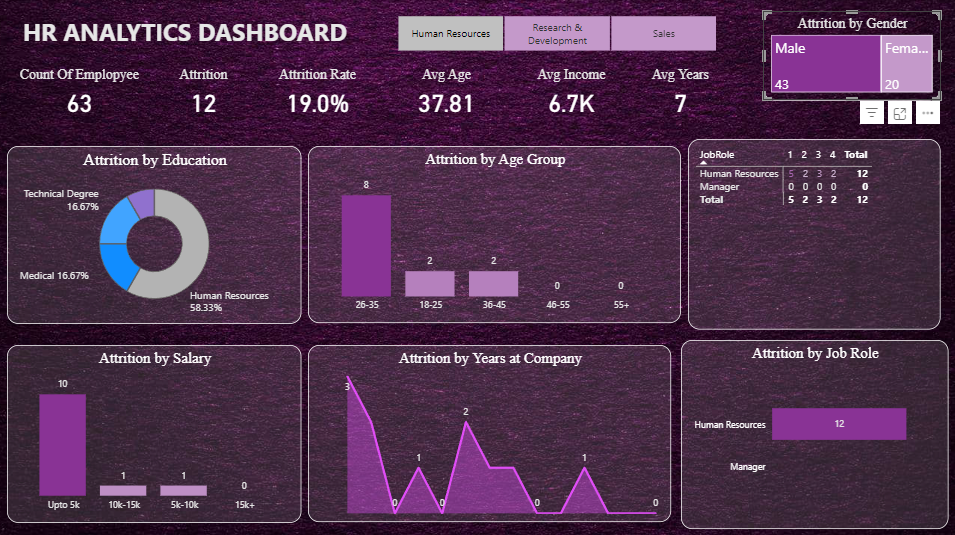

The page's visual inventory and layout, read from the dashboard file:
{"tool":"powerbi","page":{"name":"Page 1","canvas":[1280,720],"ordinal":0},"visuals":[{"type":"card","title":"Count Of Emplopyee","fields":{"Values":["CountNonNull(HR_Analytics.EmpID)"]},"box":[10.6,73.9,193.7,103.9],"z":0},{"type":"card","title":"Attrition","fields":{"Values":["CountNonNull(HR_Analytics.AttritionCount)"]},"box":[176.1,73.9,193.7,103.9],"z":1000},{"type":"card","title":"Avg Age","fields":{"Values":["Avg(HR_Analytics.Age)"]},"box":[501.8,73.9,193.7,103.9],"z":2000},{"type":"card","title":"Attrition Rate","fields":{"Values":["HR_Analytics.AttritionRate"]},"box":[329.2,73.9,193.7,103.9],"z":3000},{"type":"card","title":"Avg Income","fields":{"Values":["Avg(HR_Analytics.MonthlyIncome)"]},"box":[669.1,73.9,193.7,103.9],"z":4000},{"type":"card","title":"Avg Years","fields":{"Values":["Avg(HR_Analytics.YearsAtCompany)"]},"box":[815.2,73.9,193.7,103.9],"z":5000},{"type":"donutChart","title":"Attrition by Education","fields":{"Series":["HR_Analytics.EducationField"],"Category":["HR_Analytics.EducationField"],"Y":["Sum(HR_Analytics.AttritionCount)"]},"box":[10.6,195.4,394.4,237.7],"z":6000},{"type":"clusteredColumnChart","title":"Attrition by Age Group","fields":{"Y":["Sum(HR_Analytics.AttritionCount)"],"Category":["HR_Analytics.AgeGroup"]},"box":[413.3,195.9,499.1,237.4],"z":7000},{"type":"pivotTable","fields":{"Rows":["HR_Analytics.JobRole"],"Columns":["HR_Analytics.JobSatisfaction"],"Values":["Sum(HR_Analytics.AttritionCount)"]},"box":[922.6,186.6,338,255.3],"z":8000},{"type":"clusteredColumnChart","title":"Attrition by Salary","fields":{"Y":["Sum(HR_Analytics.AttritionCount)"],"Category":["HR_Analytics.SalarySlab"]},"box":[10.6,461.3,394.4,237.7],"z":9000},{"type":"barChart","title":"Attrition by Job Role","fields":{"Category":["HR_Analytics.JobRole"],"Y":["Sum(HR_Analytics.AttritionCount)"]},"box":[912.4,454.8,357.5,253.1],"z":10000},{"type":"lineChart","title":"Attrition by Years at Company","fields":{"Y":["Sum(HR_Analytics.AttritionCount)"],"Category":["HR_Analytics.TotalWorkingYears"]},"box":[413.3,461.9,486.3,237.4],"z":11000},{"type":"treemap","title":" Attrition by Gender","fields":{"Group":["HR_Analytics.Gender"],"Values":["CountNonNull(HR_Analytics.Attrition)"]},"box":[1022.9,14.1,237.7,119.7],"z":12000},{"type":"slicer","fields":{"Values":["HR_Analytics.Department"]},"box":[508.8,14.1,475.4,59.9],"z":13000},{"type":"textbox","box":[26.4,14.1,489.5,89.8],"z":14000}]}

Visuals, with their boxes in screenshot pixels (x1, y1, x2, y2), scaled from the page's 1280x720 canvas onto the 955x535 screenshot:
"Count Of Emplopyee" card: (left=8, top=55, right=152, bottom=132)
"Attrition" card: (left=131, top=55, right=276, bottom=132)
"Avg Age" card: (left=374, top=55, right=519, bottom=132)
"Attrition Rate" card: (left=246, top=55, right=390, bottom=132)
"Avg Income" card: (left=499, top=55, right=644, bottom=132)
"Avg Years" card: (left=608, top=55, right=753, bottom=132)
"Attrition by Education" donutChart: (left=8, top=145, right=302, bottom=322)
"Attrition by Age Group" clusteredColumnChart: (left=308, top=146, right=681, bottom=322)
pivotTable - HR_Analytics.JobRole x HR_Analytics.JobSatisfaction: (left=688, top=139, right=941, bottom=328)
"Attrition by Salary" clusteredColumnChart: (left=8, top=343, right=302, bottom=519)
"Attrition by Job Role" barChart: (left=681, top=338, right=947, bottom=526)
"Attrition by Years at Company" lineChart: (left=308, top=343, right=671, bottom=520)
" Attrition by Gender" treemap: (left=763, top=10, right=941, bottom=99)
slicer - HR_Analytics.Department: (left=380, top=10, right=734, bottom=55)
textbox: (left=20, top=10, right=385, bottom=77)
